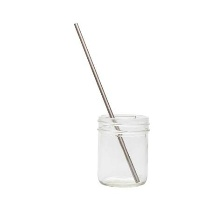drinking_straw: (70, 19, 144, 185)
glass: (92, 109, 155, 189)
